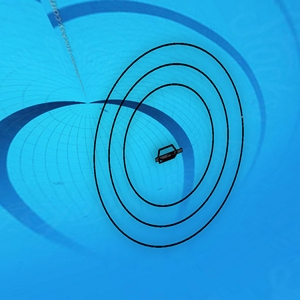circle: (88, 36, 251, 255)
submarine: (154, 145, 182, 165)
